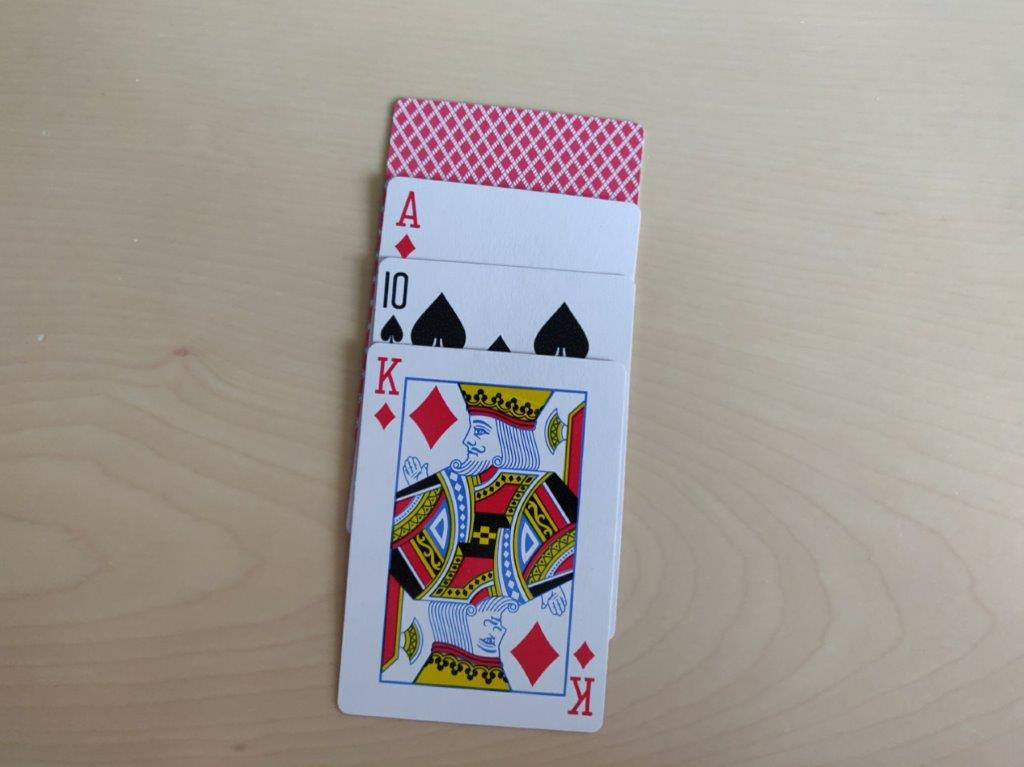10S: (381, 270, 410, 349)
AD: (393, 188, 423, 260)
BACK: (385, 100, 648, 197)
KD: (369, 353, 401, 431)
